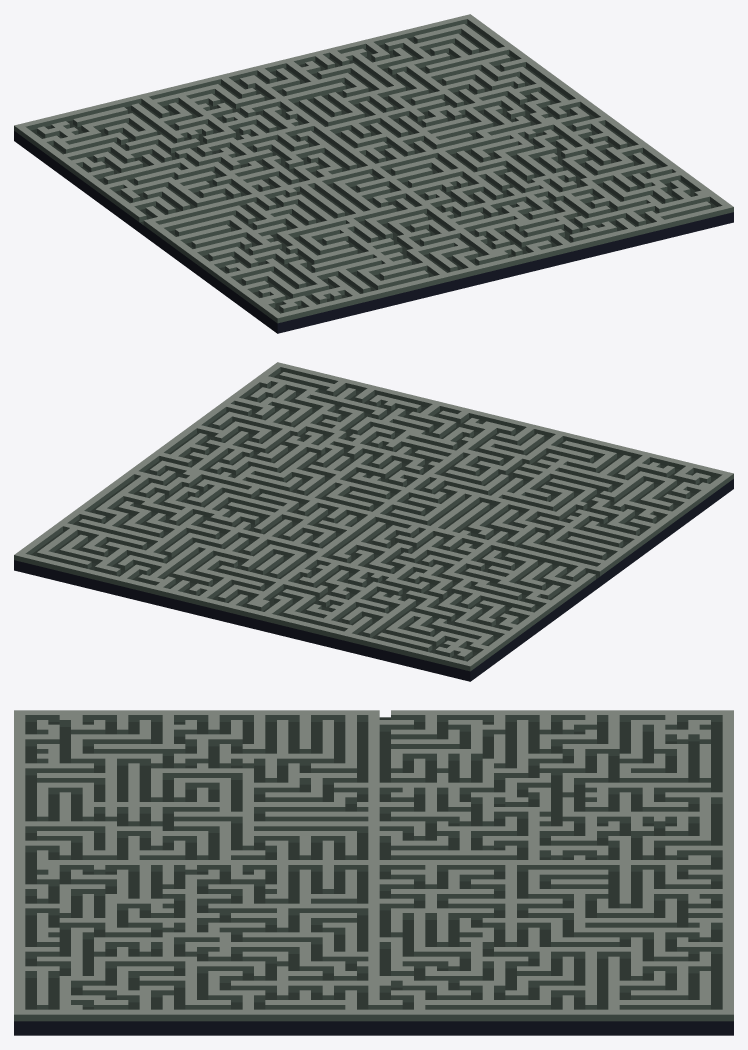
Rendered from SM_Maze_01.fbx.
3 views of the same model, one above another, from view 1: azimuth 30°, elevation 25°; view 2: azimuth 150°, elevation 25°; view 3: azimuth 270°, elevation 25° (orthographic). The views are drawn at different scales.
Parts seen in each view (by area): view 1: SM_Maze_01; view 2: SM_Maze_01; view 3: SM_Maze_01.
Part boxes in pixels (left/top/right/bottom): SM_Maze_01: left=14, top=14, right=733, bottom=333; SM_Maze_01: left=14, top=362, right=733, bottom=681; SM_Maze_01: left=14, top=710, right=733, bottom=1035.
Bounding box in the file's own units: 189 × 6.11 × 189.
1 material, 1 textured.
